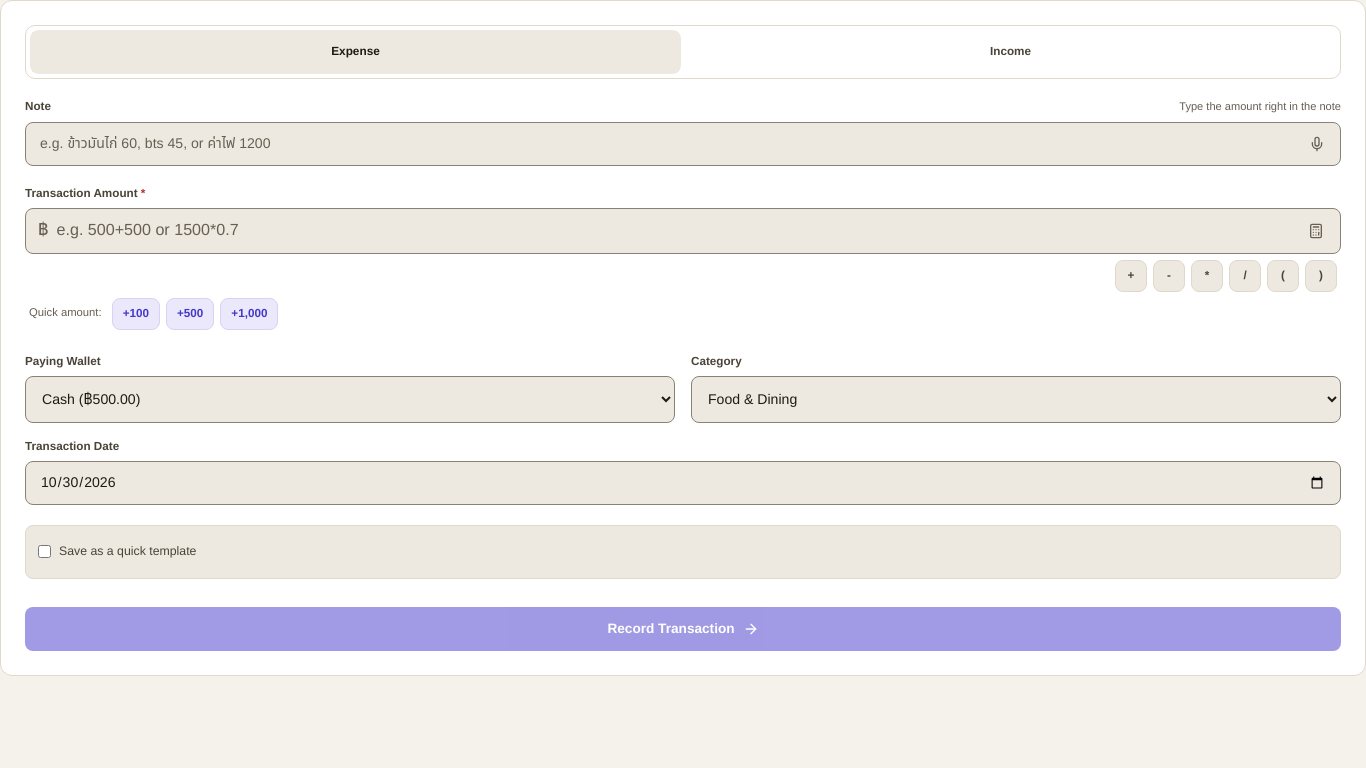
Test: the entry form › does not warn for a credit card, or for income
Type "lunch 600" into the field labelled "Note" at x=683, y=144, box [25,122,1341,166]
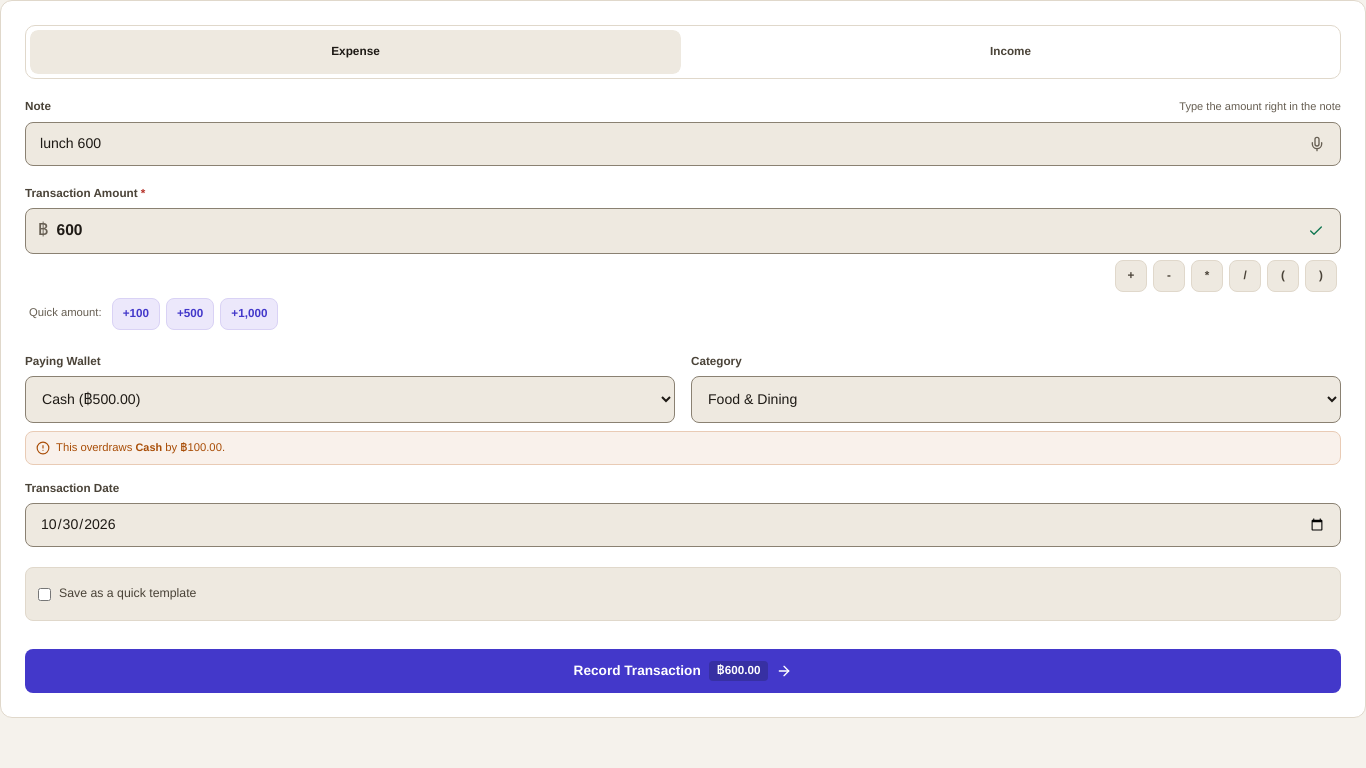
Select "Card (−฿100.00)" in the dropdown with id "t-wallet-select" at x=350, y=399, box [25,376,675,422]
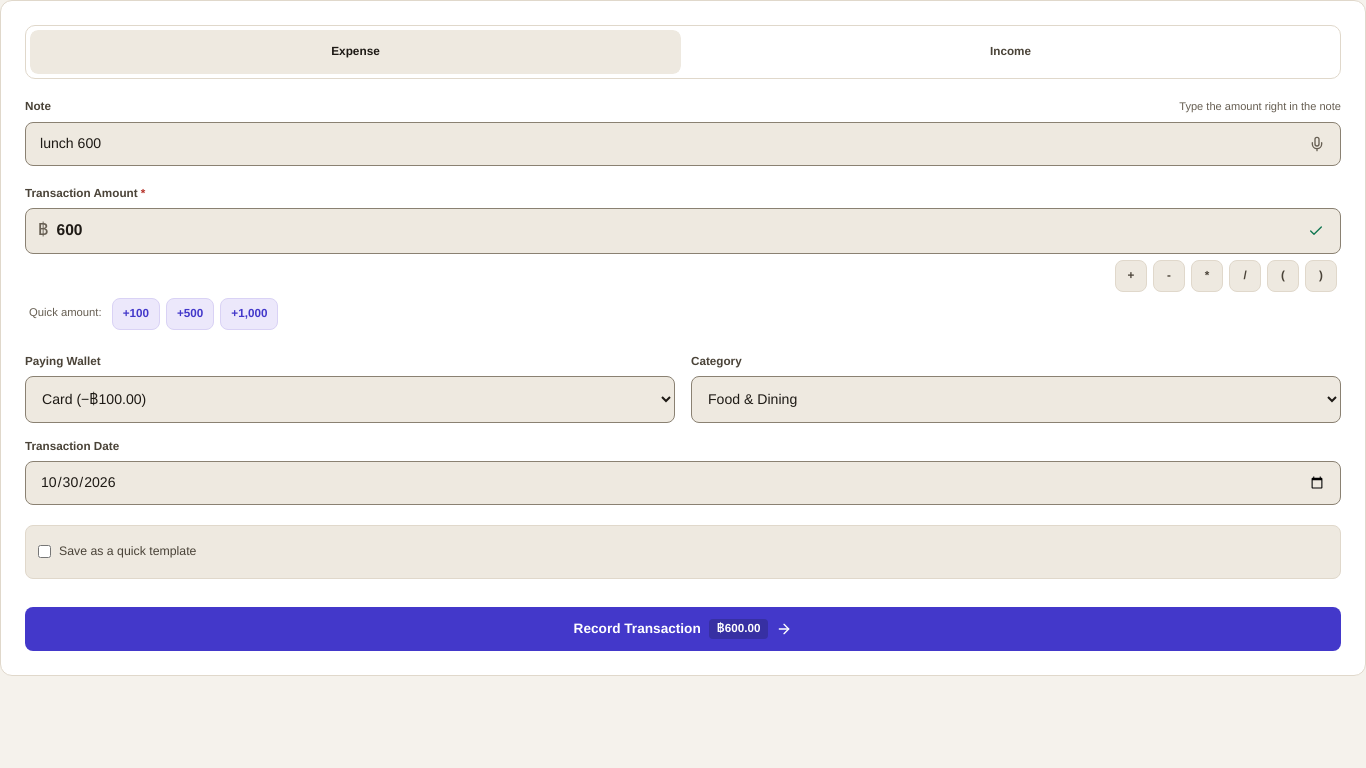
Check: the element with test id "t-overdraft-warning" is gone
Select "Cash (฿500.00)" in the dropdown with id "t-wallet-select" at x=350, y=399, box [25,376,675,422]
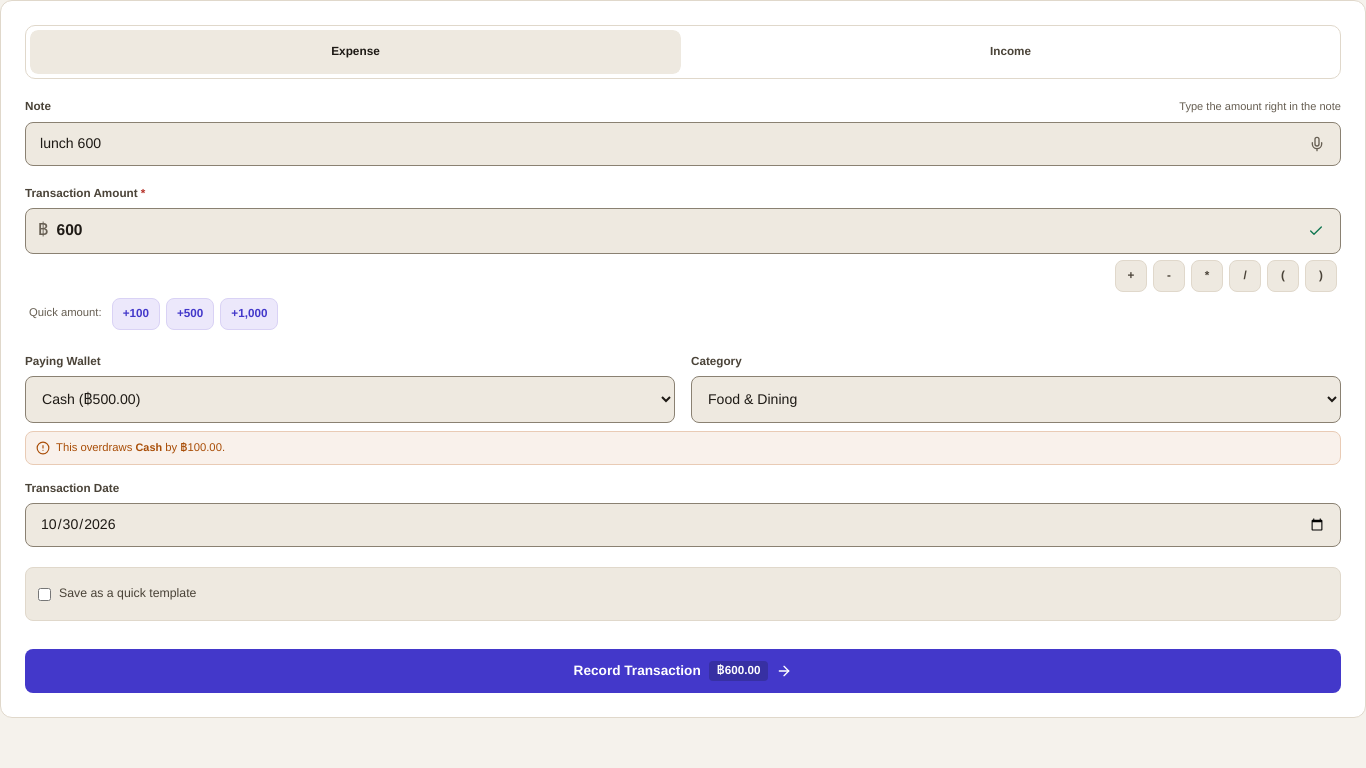
Check: the element with test id "t-overdraft-warning" is shown, box [25,430,1341,465]
Click the button "Income" at x=1010, y=52, box [685,30,1336,74]
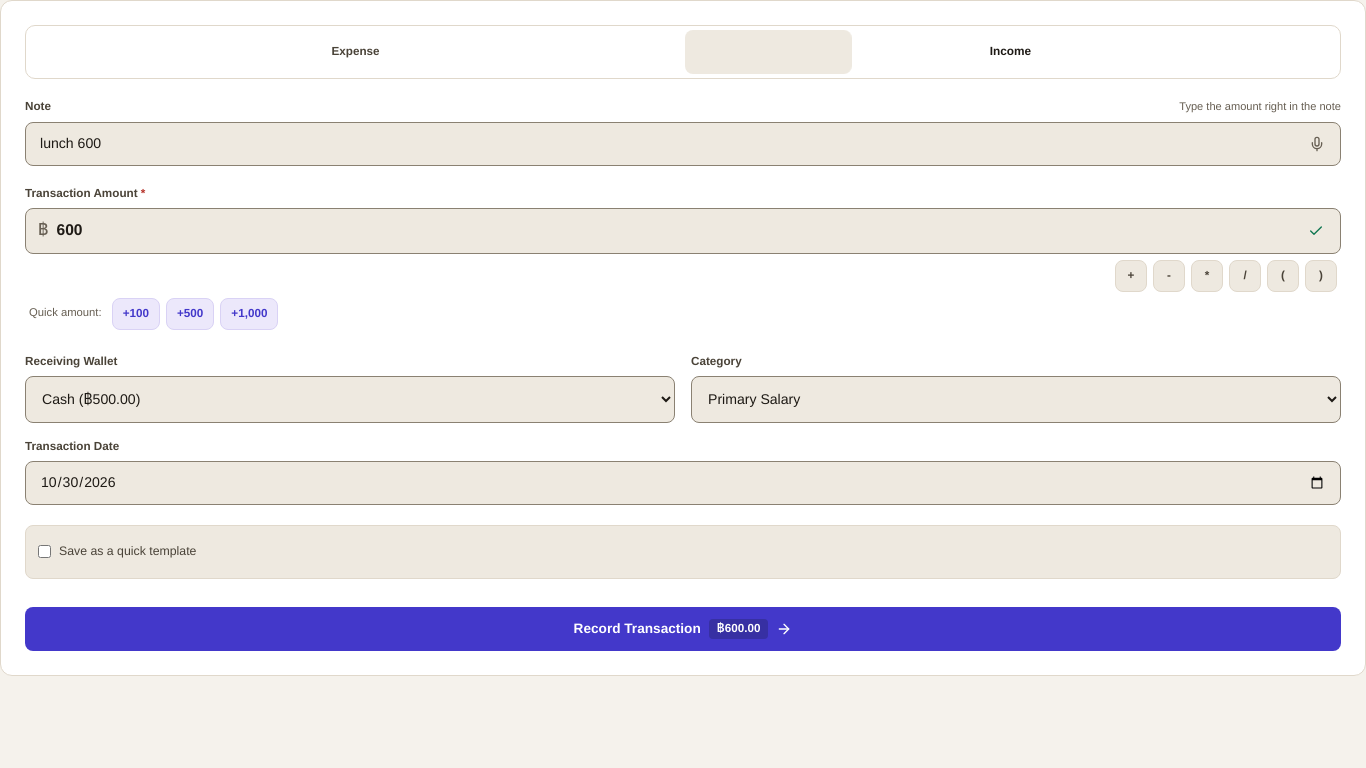
Check: the element with test id "t-overdraft-warning" is gone
